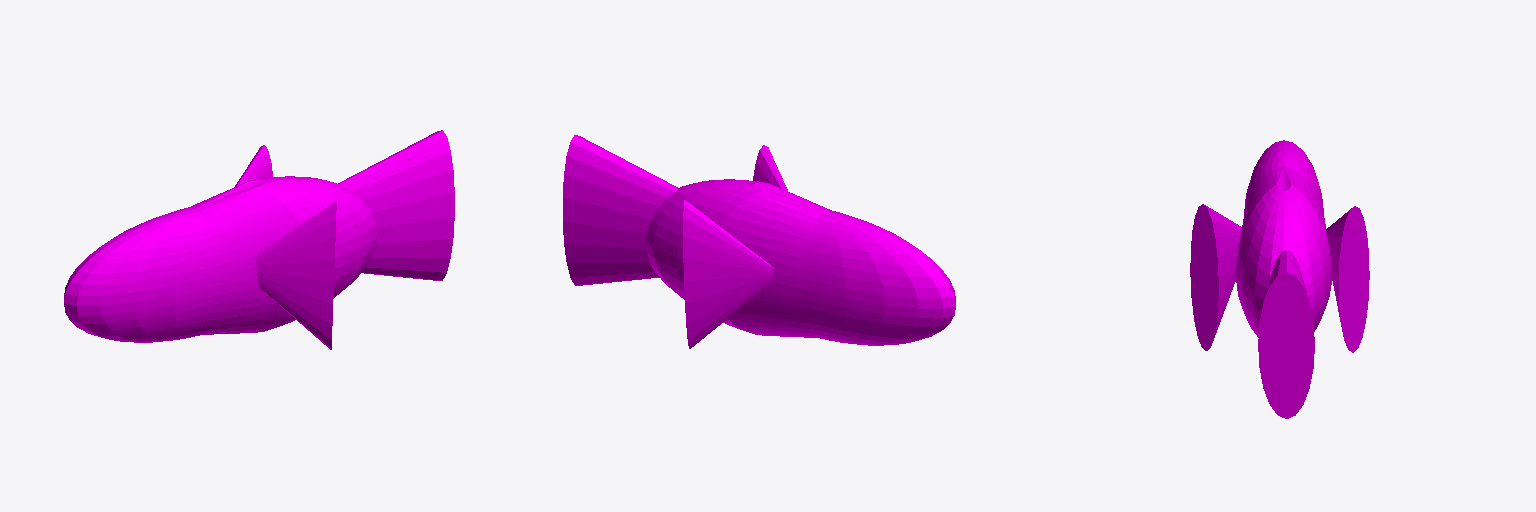
File: fish2.obj
3 renders of one model, left to right at view 1: azimuth 30°, elevation 25°; view 2: azimuth 150°, elevation 25°; view 3: azimuth 270°, elevation 25°, orthographic.
Visible parts, largest first — view 1: pCone4; view 2: pCone4; view 3: pCone4.
Boxes of the visible parts, x1=… form: pCone4: x1=64, y1=130, x2=454, y2=349; pCone4: x1=563, y1=135, x2=955, y2=348; pCone4: x1=1190, y1=140, x2=1369, y2=418.
Bounding box in the file's own units: 543 × 209 × 221.